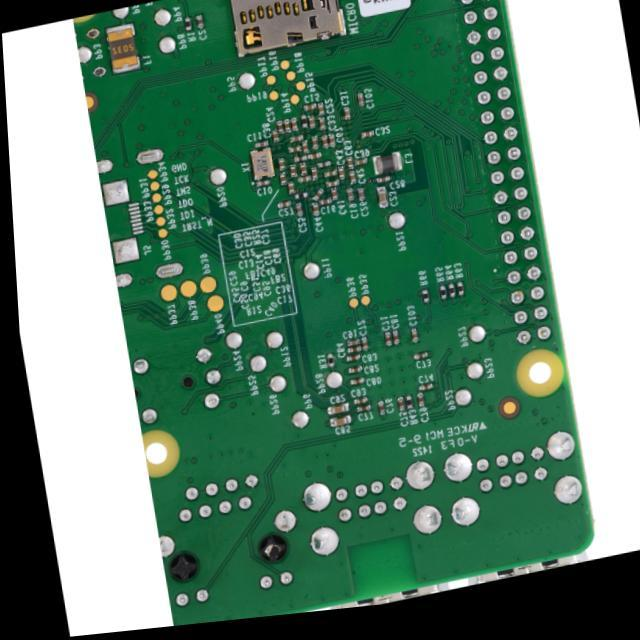Raspberry Pi 1 B-: (75, 1, 593, 624)
